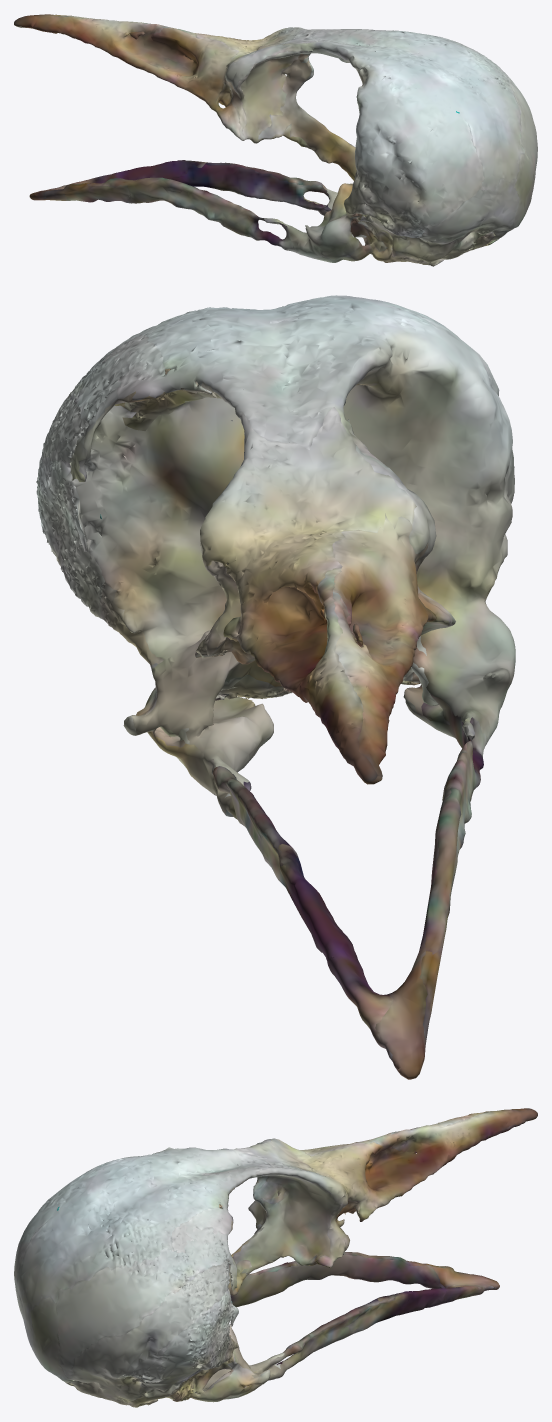
The model's file is curruca.glb.
The picture shows the model from 3 angles, top to bottom: view 1: azimuth 30°, elevation 25°; view 2: azimuth 150°, elevation 25°; view 3: azimuth 270°, elevation 25°; orthographic projection. The views are drawn at different scales.
Visible parts, largest first — view 1: Object_2; view 2: Object_2; view 3: Object_2.
Part boxes in pixels (x1=…): Object_2: x1=14, y1=14, x2=537, y2=266; Object_2: x1=36, y1=295, x2=515, y2=1079; Object_2: x1=14, y1=1108, x2=537, y2=1407.
Size of the model in its own units: 1.67 by 1.01 by 2.09.
1 material, 1 textured.
